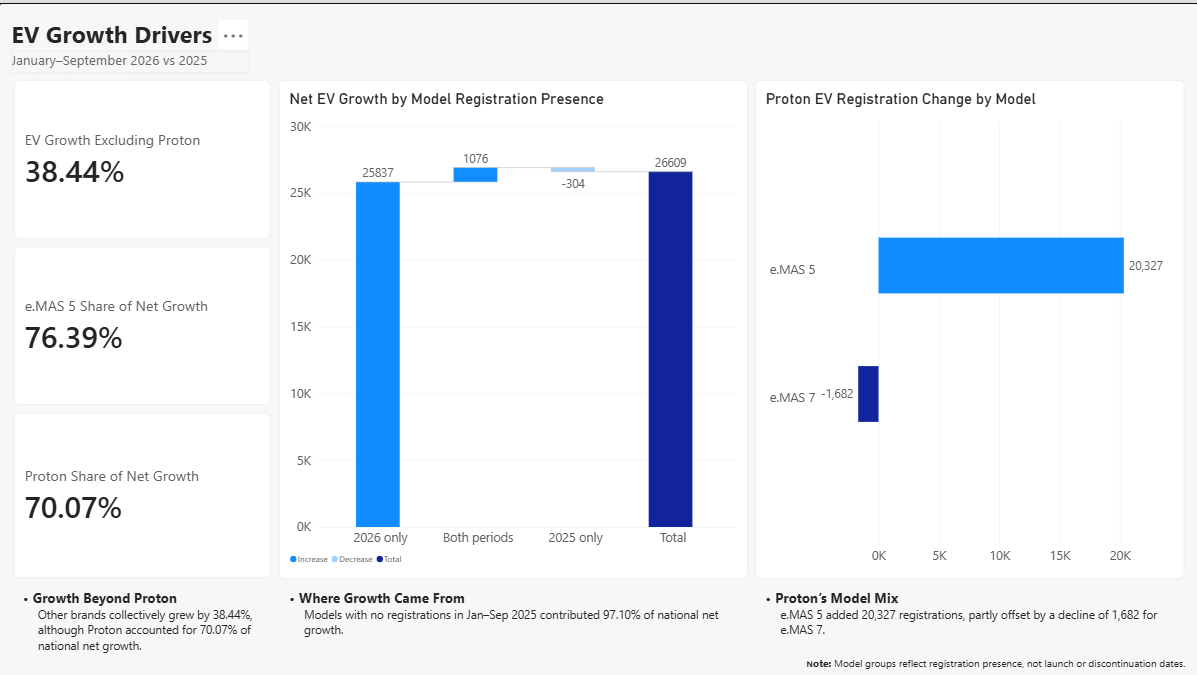

Layout of this report page (visuals, bound fields, positions):
{"tool":"powerbi","page":{"name":"Growth Drivers","canvas":[1920,1080],"ordinal":2},"visuals":[{"type":"textbox","box":[20,24,418,52],"z":4000},{"type":"textbox","box":[20,75.7,380,35.7],"z":5000},{"type":"cardVisual","fields":{"Data":["_Calculation.EV Growth Excluding Proton"]},"box":[23.6,124.4,410.6,253.5],"z":5001},{"type":"cardVisual","fields":{"Data":["_Calculation.Proton Share of Net Growth"]},"box":[23.6,656.1,410.6,264.9],"z":5002},{"type":"cardVisual","fields":{"Data":["_Calculation.eMAS 5 Share of Net Growth"]},"box":[23.6,389.3,410.6,253.5],"z":5003},{"type":"waterfallChart","title":"Net EV Growth by Model Registration Presence","fields":{"Category":["Model Growth Groups.Model Group"],"Y":["_Calculation.EV Change by Model Group"]},"box":[447.4,124.4,749.2,796.5],"z":5004},{"type":"clusteredBarChart","title":"Proton EV Registration Change by Model","fields":{"Category":["Registrations.model"],"Y":["Registrations.EV Registration Change"]},"box":[1209.9,124.4,686.8,796.5],"z":5005},{"type":"textbox","box":[21.7,936.1,412.5,107.8],"z":5007},{"type":"textbox","box":[447.4,936.1,749.2,83.2],"z":5008},{"type":"textbox","box":[1209.9,936.1,686.8,85.1],"z":5009},{"type":"textbox","box":[1292,1044,628,28],"z":5010}]}

Visuals, with their boxes in screenshot pixels (x1, y1, x2, y2), scaled from the page's 1920x1080 canvas onto the 1197x675 screenshot:
textbox: x1=12, y1=15, x2=273, y2=48
textbox: x1=12, y1=47, x2=249, y2=70
cardVisual - _Calculation.EV Growth Excluding Proton: x1=15, y1=78, x2=271, y2=236
cardVisual - _Calculation.Proton Share of Net Growth: x1=15, y1=410, x2=271, y2=576
cardVisual - _Calculation.eMAS 5 Share of Net Growth: x1=15, y1=243, x2=271, y2=402
"Net EV Growth by Model Registration Presence" waterfallChart: x1=279, y1=78, x2=746, y2=576
"Proton EV Registration Change by Model" clusteredBarChart: x1=754, y1=78, x2=1182, y2=576
textbox: x1=14, y1=585, x2=271, y2=652
textbox: x1=279, y1=585, x2=746, y2=637
textbox: x1=754, y1=585, x2=1182, y2=638
textbox: x1=805, y1=652, x2=1196, y2=670
